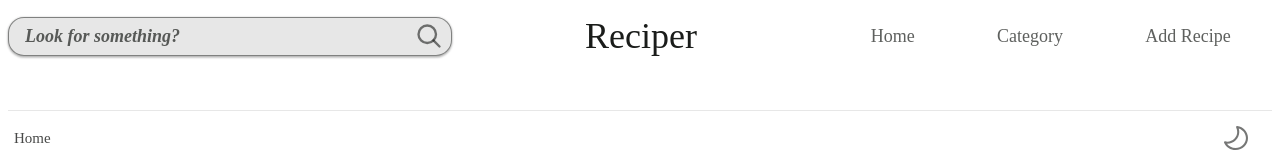
Test: BreadCrumbs Section › when user search bread will changed
Type "some expression" into the field with test id "headSearchInput".
click(230, 36); type("some expression")  # box x1=9 y1=18 x2=451 y2=54
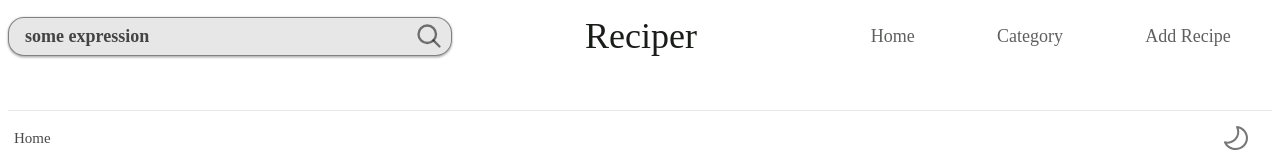
Press Enter in the field with test id "headSearchInput", box x1=9 y1=18 x2=451 y2=54
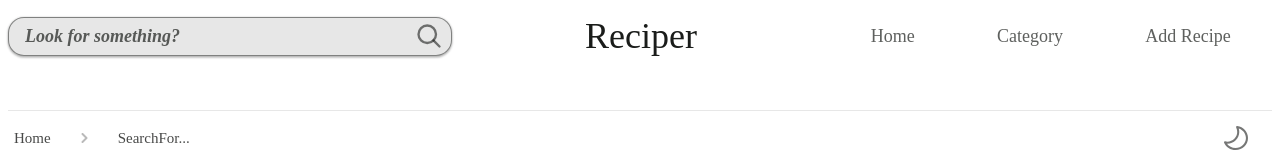
Expected: the element with test id "breadHolder" shows "SearchFor..", x1=112 y1=127 x2=196 y2=149
